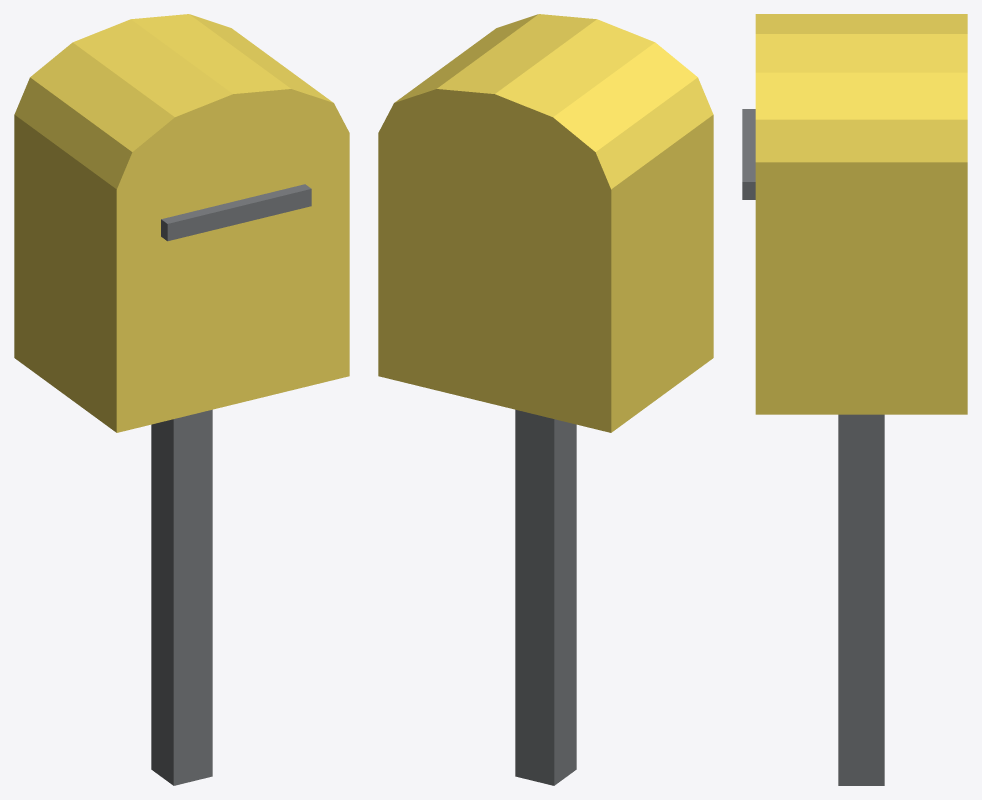
The model's file is postbox.glb.
3 views of the same model, side by side, from view 1: azimuth 30°, elevation 25°; view 2: azimuth 150°, elevation 25°; view 3: azimuth 270°, elevation 25° (orthographic). The views are drawn at different scales.
Parts seen in each view (by area): view 1: postbox; view 2: postbox; view 3: postbox.
Boxes of the visible parts, <box> form: postbox: <box>14,14,349,785</box>; postbox: <box>378,14,713,785</box>; postbox: <box>742,14,967,785</box>.
Size of the model in its own units: 0.42 by 1.24 by 0.34.
